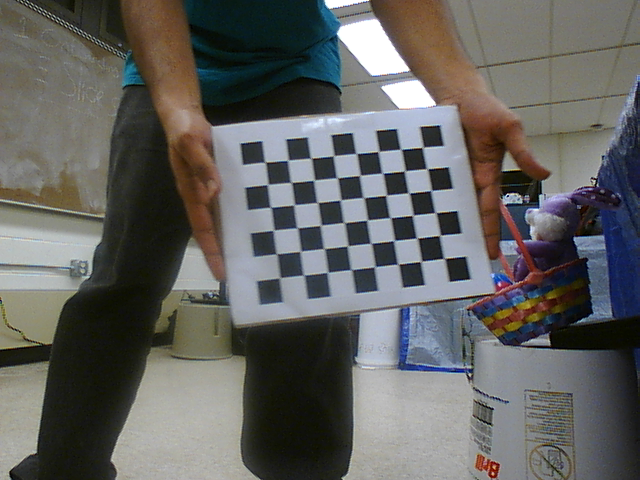bunny: (467, 182, 598, 353)
